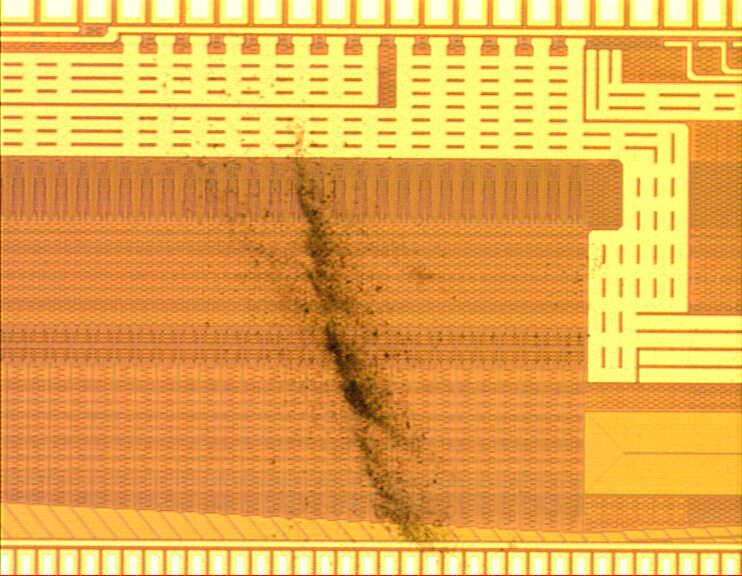PO CONTAMINATION: (196, 103, 466, 553)
